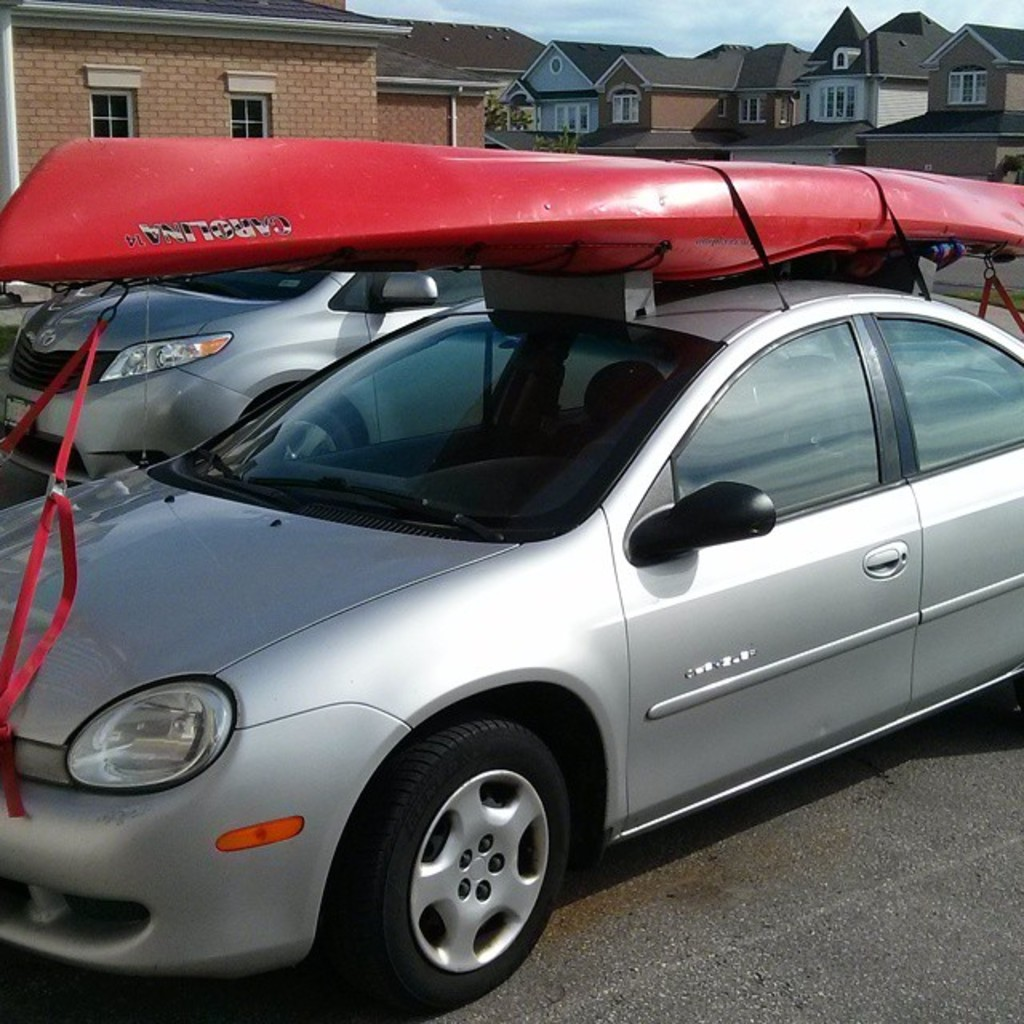Car: (0, 286, 1022, 1004), (0, 265, 481, 487)
